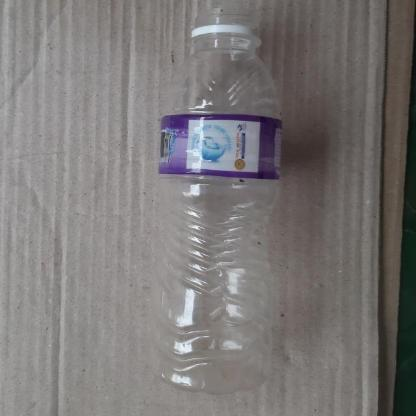Plastic Bottle: (149, 0, 278, 395)
